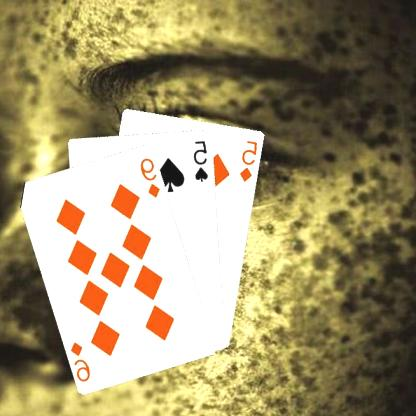5D: (238, 138, 262, 184)
5S: (193, 138, 212, 183)
9D: (138, 154, 164, 199), (69, 338, 94, 383)
